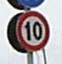limite 10: (16, 10, 49, 50)
